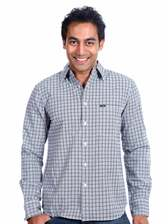clothoes: (18, 60, 155, 221)
